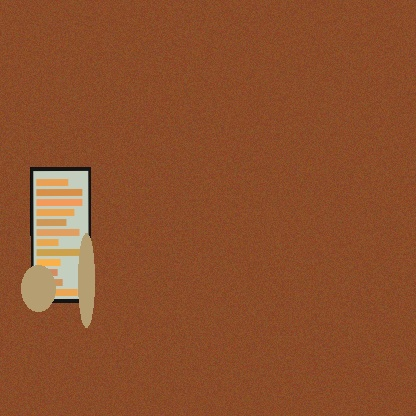cell_phone: (30, 167, 91, 303)
